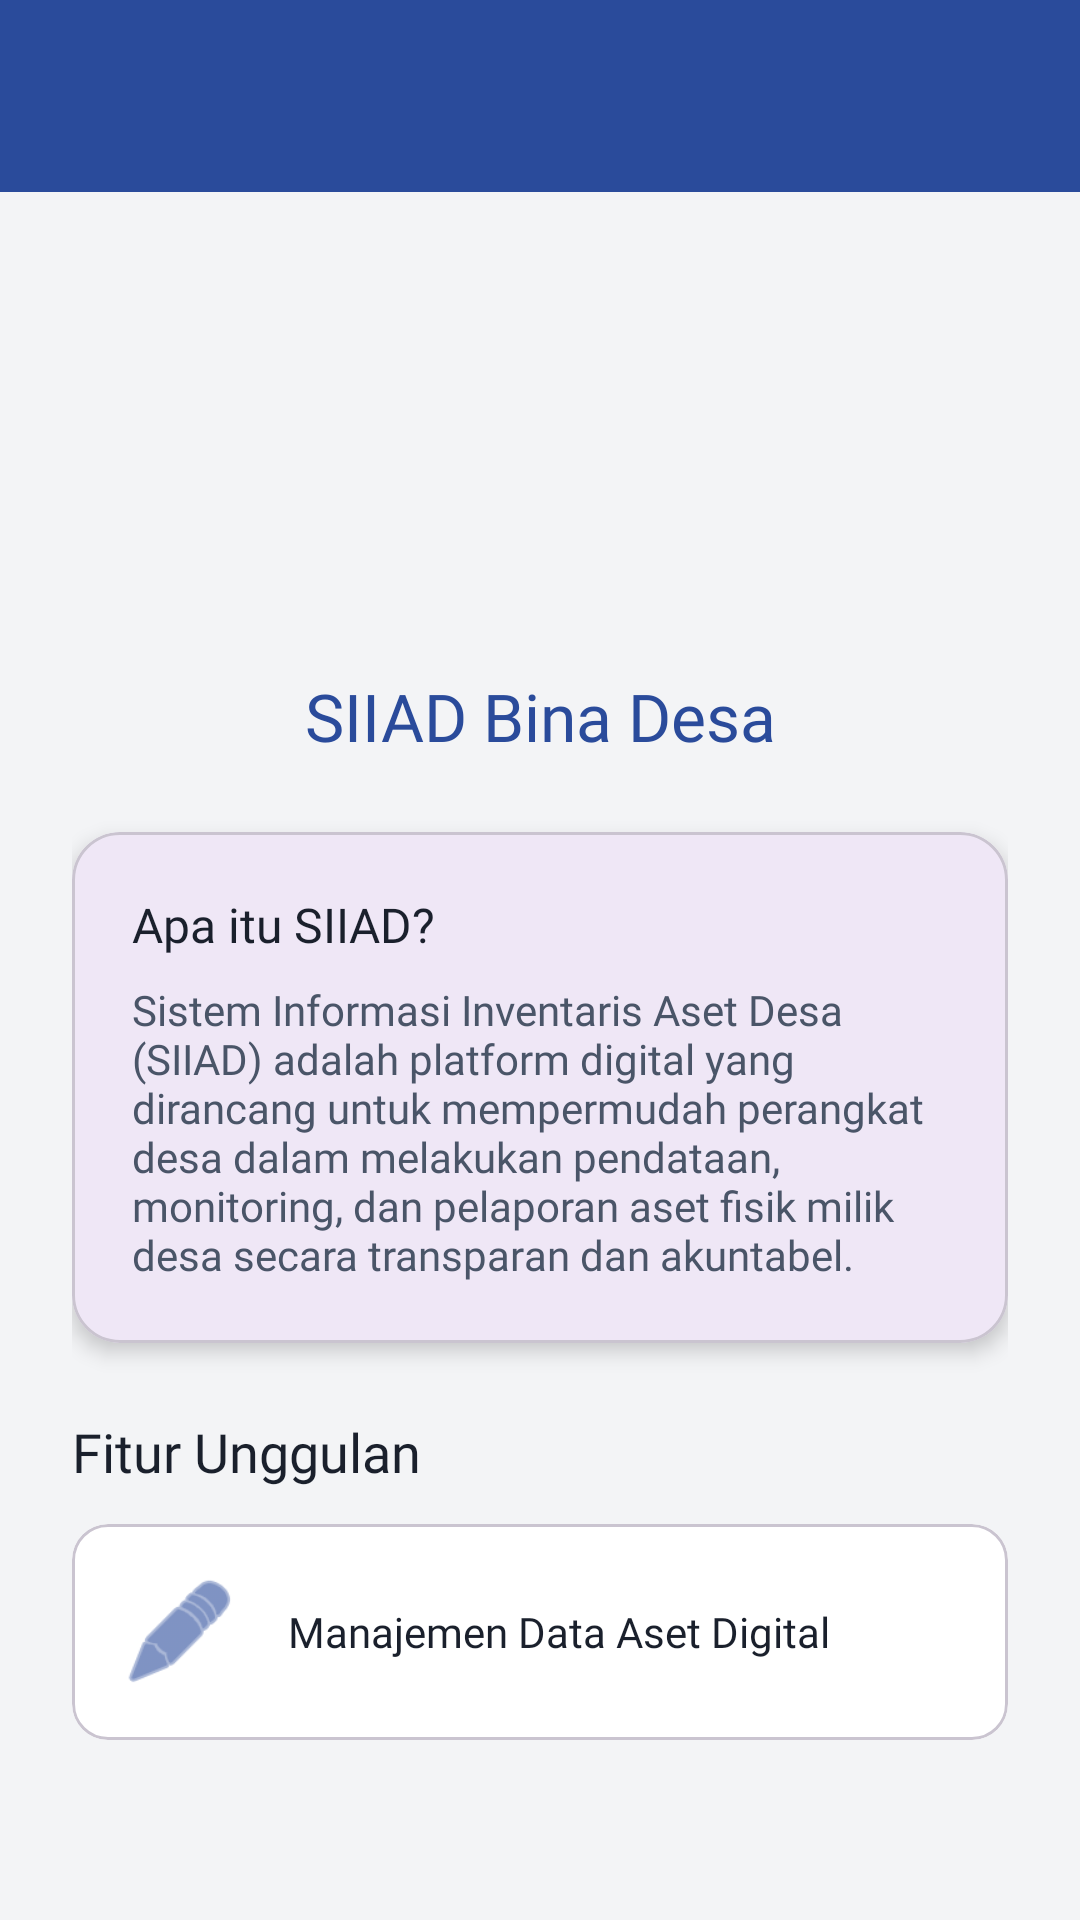

Named icons in this screenshot (1080×1920) and their bounding boxes, box=[x1, y1, x2, y2]:
edit: box=[129, 1580, 230, 1682]
